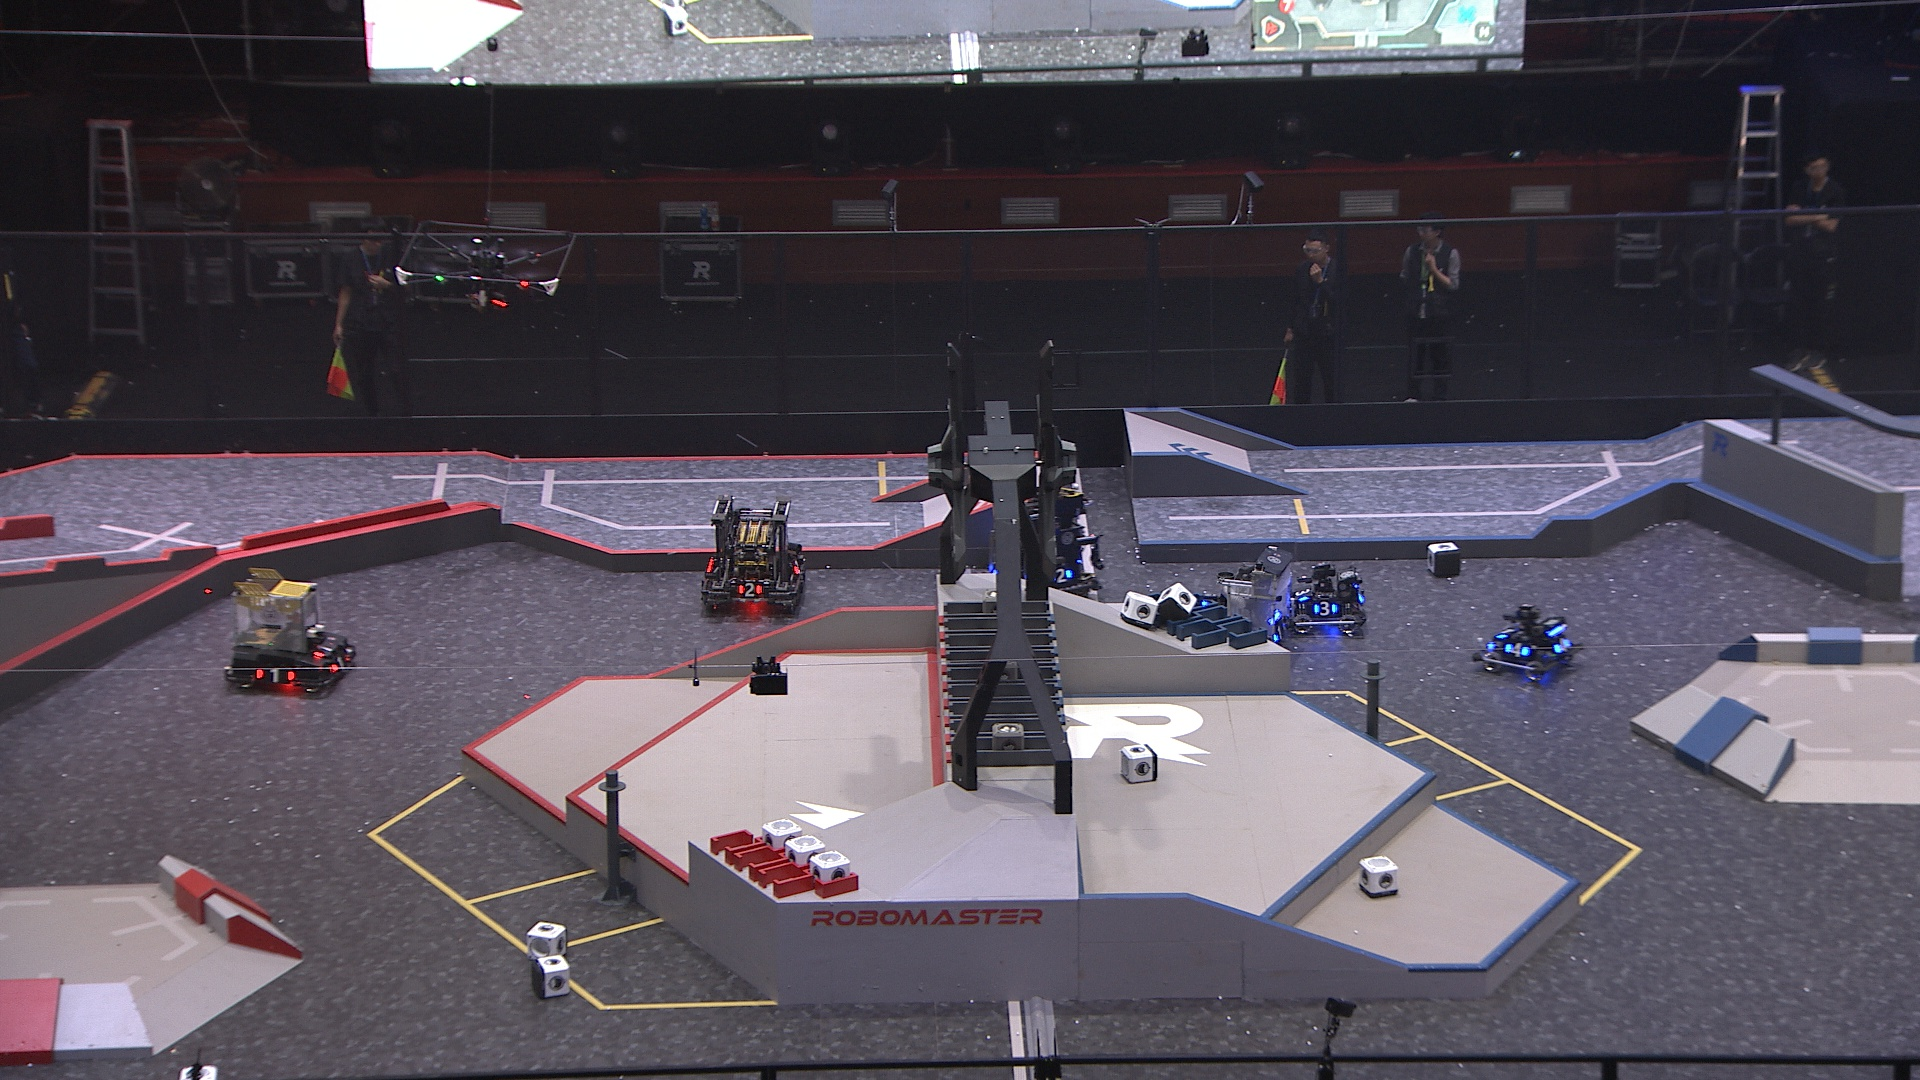armor: (252, 665, 295, 684), (309, 633, 335, 662), (328, 651, 352, 673), (1309, 599, 1338, 616), (737, 583, 764, 597), (1054, 567, 1073, 585), (1505, 642, 1528, 657), (1495, 624, 1519, 638), (1275, 618, 1290, 642), (1296, 583, 1309, 604), (793, 556, 804, 578), (1556, 636, 1571, 651)
car: (224, 570, 357, 694), (989, 483, 1102, 604), (698, 493, 808, 617), (1203, 542, 1302, 655), (1470, 603, 1582, 684), (1290, 560, 1371, 637)
